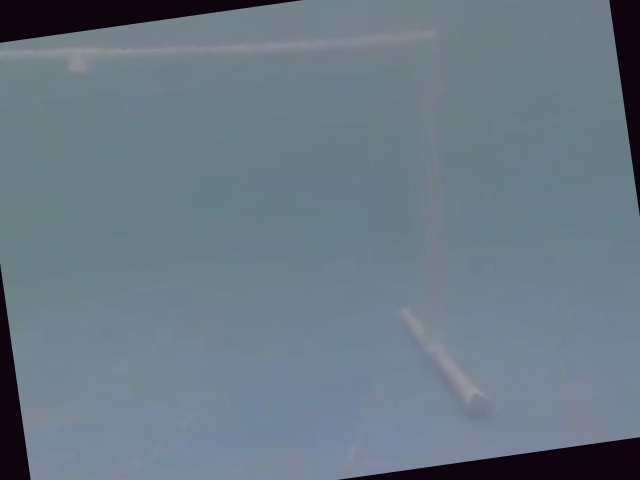gate: (11, 12, 511, 426)
